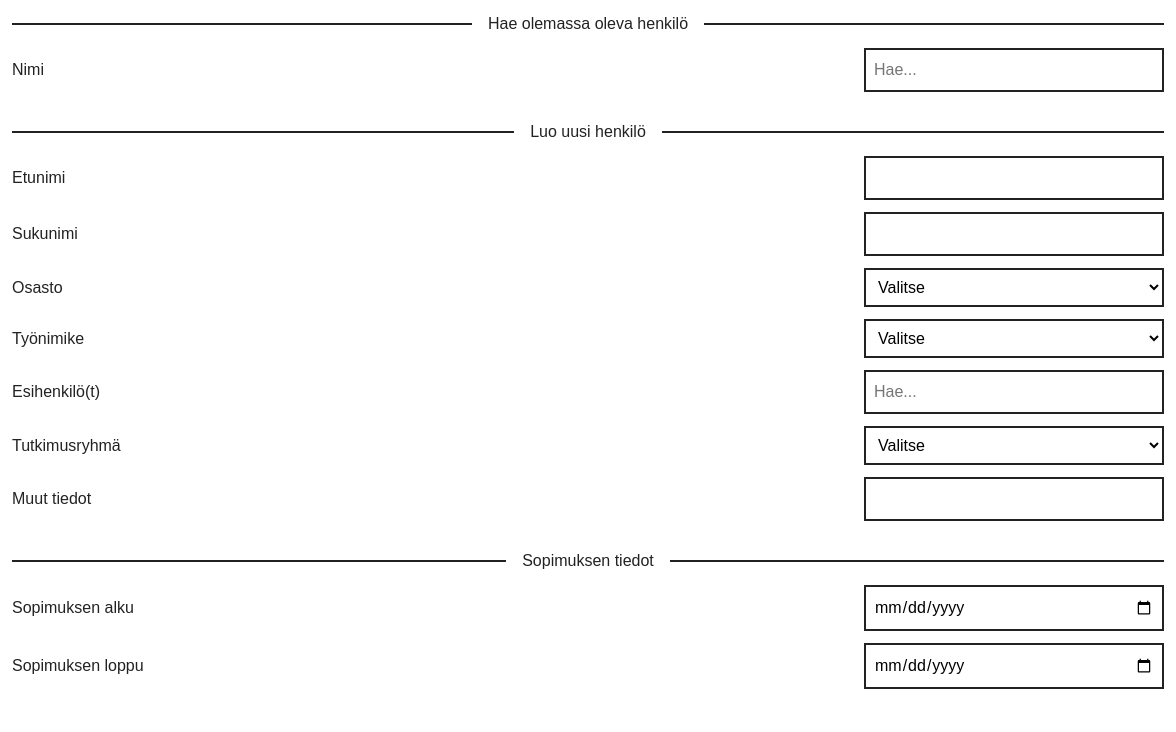
PersonForm › focusing the supervisor input opens the dropdown
Focus the field labelled "Esihenkilö(t)" at (1014, 392), box top-left (864, 370), bottom-right (1164, 414)
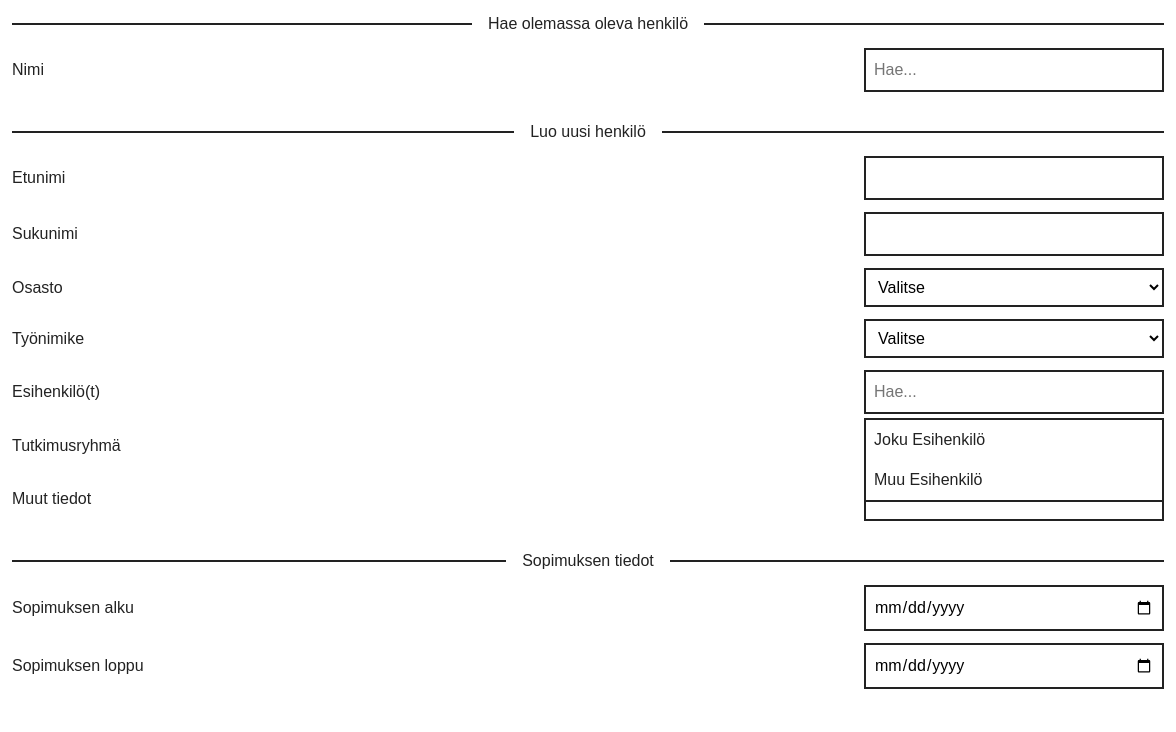
Now the option "Joku Esihenkilö" is shown, box top-left (874, 431), bottom-right (985, 448)
